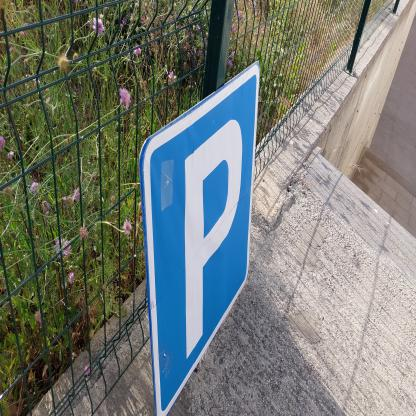Parking-Sign: (140, 61, 261, 416)
